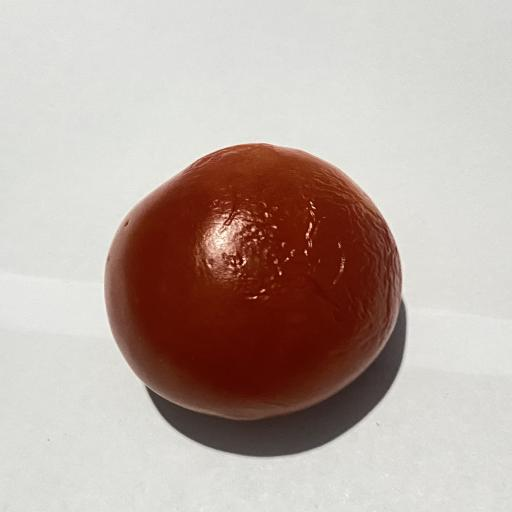spoiled: (105, 144, 401, 419), (251, 227, 256, 232)
